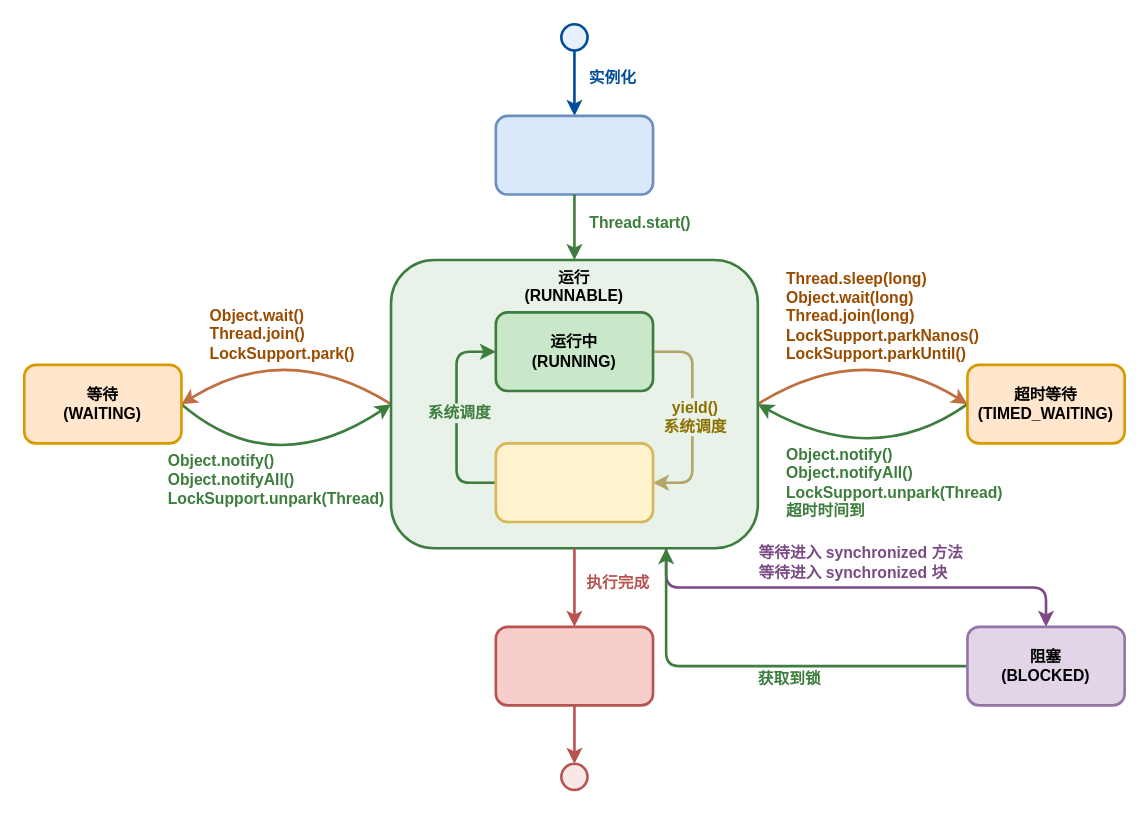
The diagram is 1148 pixels wide and 814 high, and some of its shapes have lost their labels. Here are the shapes that lost their labels. From the top down, the centre of each, then its label:
At pixel 574 154: "初始化 (NEW)".
At pixel 574 482: "就绪 (READY)".
At pixel 574 665: "终止 (TERMINATED)".
